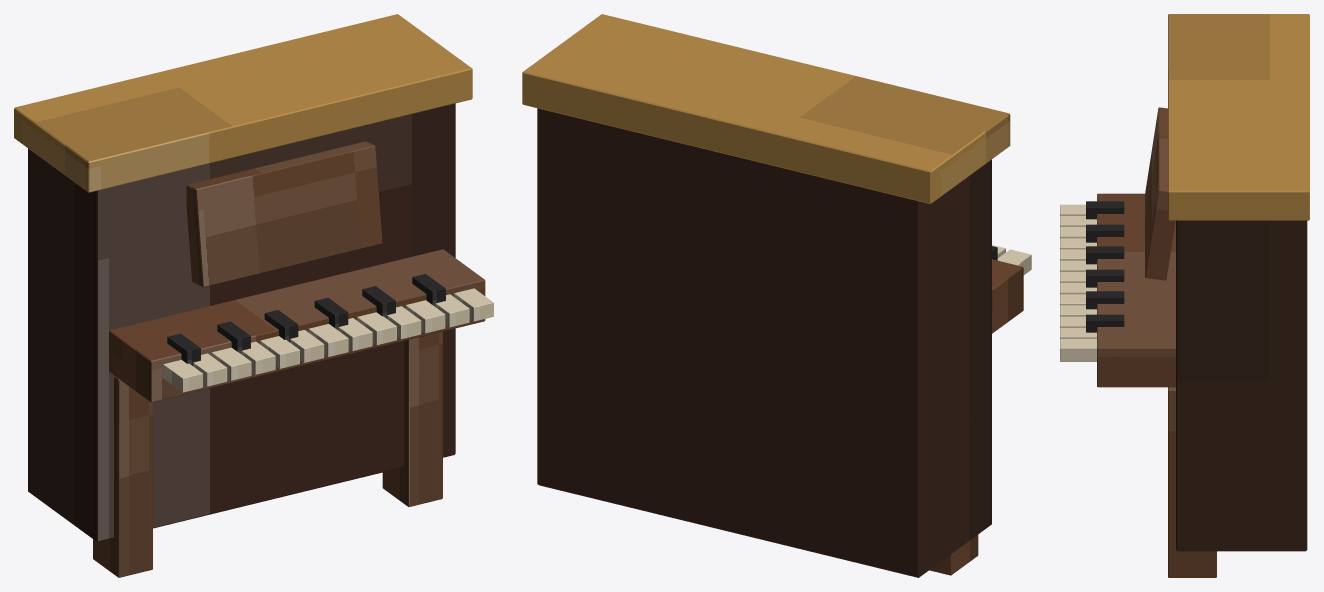
The model's file is mansion_upright_piano.glb.
3 renders of one model, left to right at view 1: azimuth 30°, elevation 25°; view 2: azimuth 150°, elevation 25°; view 3: azimuth 270°, elevation 25°, orthographic. The views are drawn at different scales.
Parts seen in each view (by area): view 1: PianoBody, PianoCrown, MusicRest, KeyboardBed, PianoLeg-0.58, PianoLeg0.58, IvoryKey_00, IvoryKey_06, IvoryKey_10, IvoryKey_02, IvoryKey_12, IvoryKey_04 (+13 smaller); view 2: PianoBody, PianoCrown, KeyboardBed, PianoLeg-0.58; view 3: PianoBody, PianoCrown, KeyboardBed, MusicRest, PianoLeg0.58, IvoryKey_12, BlackKey_03, BlackKey_05, BlackKey_00, BlackKey_01, BlackKey_02, BlackKey_04 (+6 smaller).
Boxes of the visible parts, box(x1,y1,x2,y2) form: PianoBody: box(28, 103, 455, 541); PianoCrown: box(14, 14, 472, 192); MusicRest: box(186, 141, 382, 287); KeyboardBed: box(109, 249, 485, 402); PianoLeg-0.58: box(93, 376, 152, 577); PianoLeg0.58: box(382, 331, 442, 506); IvoryKey_00: box(163, 360, 202, 392); IvoryKey_06: box(308, 324, 348, 356); IvoryKey_10: box(405, 300, 445, 333); IvoryKey_02: box(211, 347, 251, 380); IvoryKey_12: box(454, 288, 493, 321); IvoryKey_04: box(260, 336, 299, 368); PianoBody: box(537, 108, 991, 577); PianoCrown: box(522, 14, 1010, 203); KeyboardBed: box(992, 259, 1023, 333); PianoLeg-0.58: box(929, 534, 978, 575); PianoBody: box(1176, 220, 1307, 551); PianoCrown: box(1168, 14, 1309, 220); KeyboardBed: box(1097, 193, 1175, 387); MusicRest: box(1145, 107, 1175, 280); PianoLeg0.58: box(1168, 387, 1216, 577); IvoryKey_12: box(1060, 339, 1096, 361); BlackKey_03: box(1086, 269, 1124, 287); BlackKey_05: box(1086, 314, 1124, 332); BlackKey_00: box(1086, 201, 1124, 219); BlackKey_01: box(1086, 224, 1124, 242); BlackKey_02: box(1086, 246, 1124, 264); BlackKey_04: box(1086, 291, 1124, 309).
Size of the model in its own units: 1.54 by 1.62 by 0.915.
Materials: 1 (1 with a texture image).
